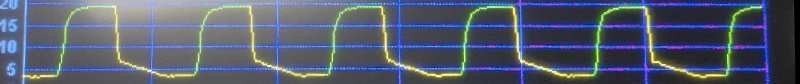normal_pressure: (28, 0, 771, 79)
